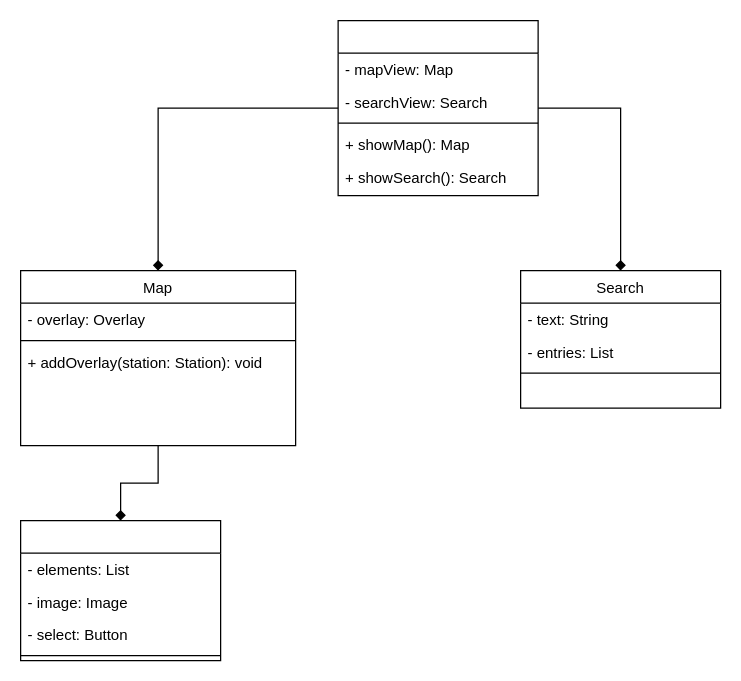
This 741x681 diagram has some shape labels left out. The shapes that lost their labels are listed below. From the top down, each one's box as (x1, y1, x2, y2) in pixels, then its label:
(337, 19, 538, 196): MapProvider
(19, 519, 221, 661): Overlay
